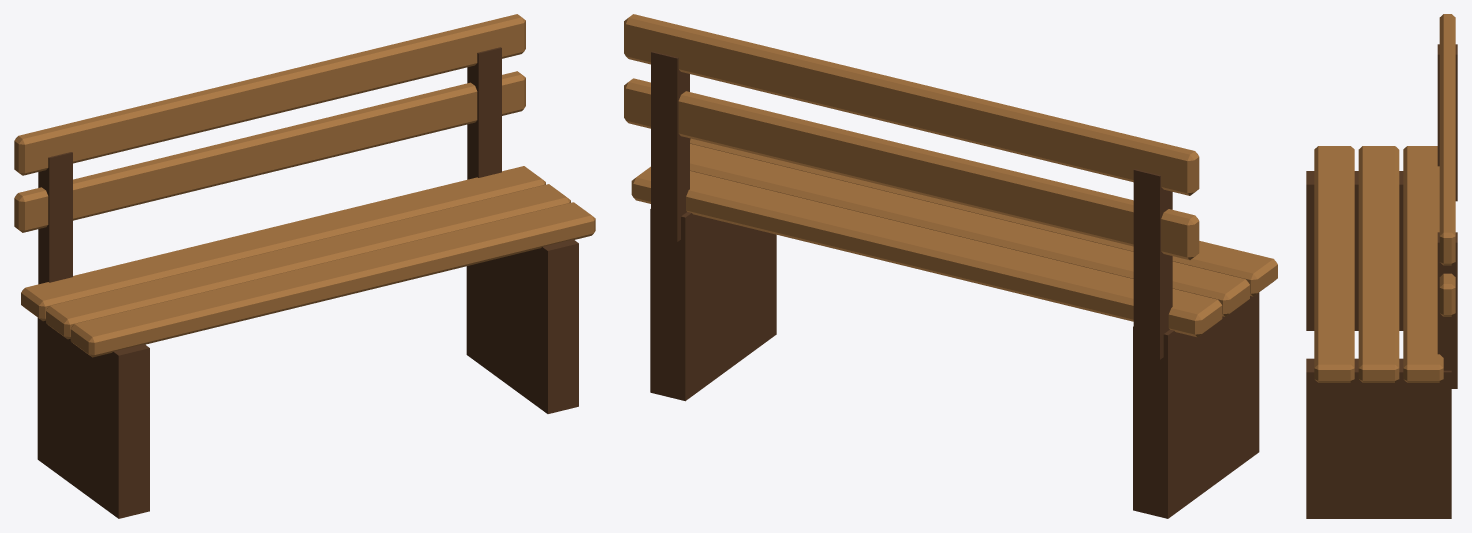
The model's file is prop_bench.glb.
3 renders of one model, left to right at view 1: azimuth 30°, elevation 25°; view 2: azimuth 150°, elevation 25°; view 3: azimuth 270°, elevation 25°, orthographic. The views are drawn at different scales.
Parts seen in each view (by area): view 1: back.001, seat, back, leg, leg.001, seat.001, seat.002, bpost, bpost.001; view 2: back.001, back, seat.002, leg, leg.001, seat.001, bpost, bpost.001, seat; view 3: leg.001, seat.001, seat, seat.002, back.001, leg, bpost.001, bpost, back.
Part boxes in pixels (<box>): back.001: <box>14,14,525,175</box>; seat: <box>70,202,595,357</box>; back: <box>14,71,525,232</box>; leg: <box>37,318,149,518</box>; leg.001: <box>466,239,578,413</box>; seat.001: <box>46,184,570,339</box>; seat.002: <box>21,166,545,321</box>; bpost: <box>38,152,72,284</box>; bpost.001: <box>467,47,501,179</box>; back.001: <box>624,14,1199,195</box>; back: <box>624,78,1199,260</box>; seat.002: <box>631,166,1222,337</box>; leg: <box>1133,292,1259,518</box>; leg.001: <box>650,209,776,401</box>; seat.001: <box>690,143,1249,316</box>; bpost: <box>1133,169,1172,359</box>; bpost.001: <box>651,51,689,241</box>; seat: <box>690,138,1277,296</box>; leg.001: <box>1306,358,1451,518</box>; seat.001: <box>1358,146,1399,382</box>; seat: <box>1314,146,1354,382</box>; seat.002: <box>1403,146,1443,382</box>; back.001: <box>1439,14,1455,265</box>; leg: <box>1306,171,1403,330</box>; bpost.001: <box>1437,232,1457,388</box>; bpost: <box>1437,44,1457,201</box>; back: <box>1439,273,1455,316</box>.
Bounding box in the file's own units: 1.3 × 0.805 × 0.375.
